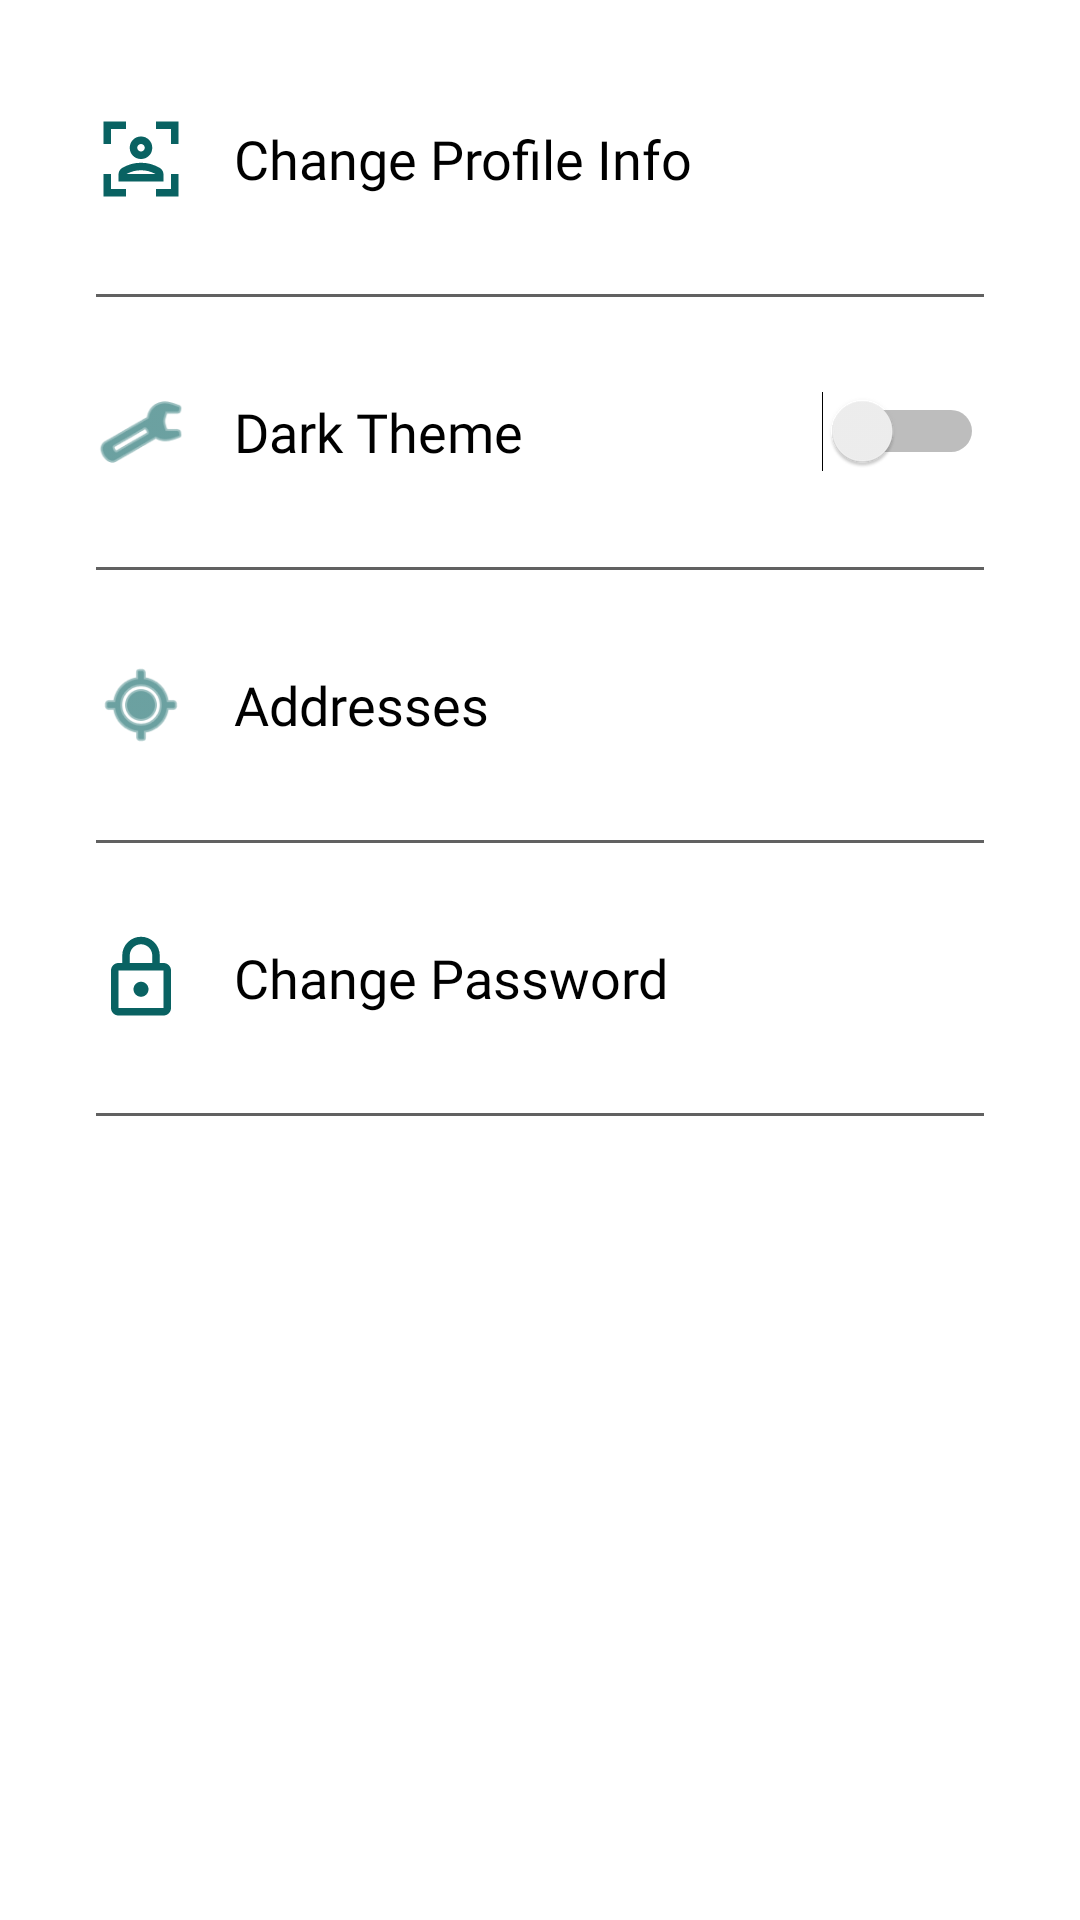

Where to tap for icons on this 1080*1920 app screen, as (x=x, y=y):
My Information: (x=141, y=159)
